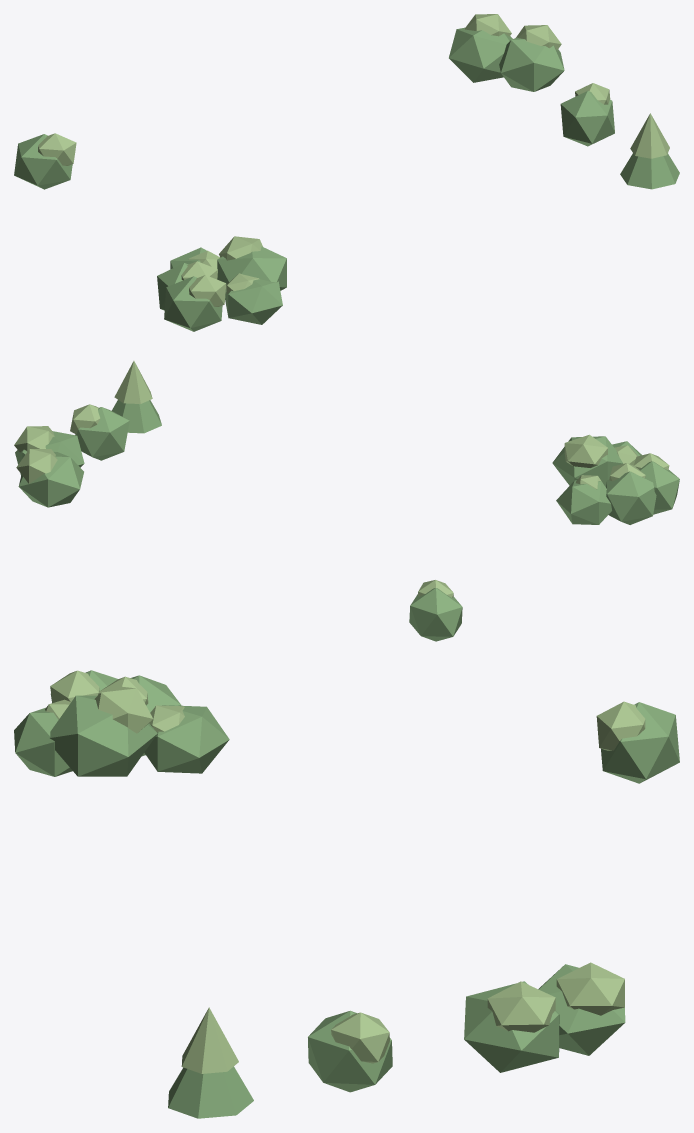
The model's file is stone_sentinels_wind_canopies.fbx.
3 renders of one model, top to bottom at view 1: azimuth 30°, elevation 25°; view 2: azimuth 150°, elevation 25°; view 3: azimuth 270°, elevation 25°, orthographic. The views are drawn at different scales.
Parts seen in each view (by area): view 1: chunk_stone_sentinels__tree_canopy_15, chunk_stone_sentinels__tree_canopy_13, chunk_stone_sentinels__tree_canopy_16, chunk_stone_sentinels__tree_canopy_01, chunk_stone_sentinels__tree_canopy_10, chunk_stone_sentinels__tree_canopy_06, chunk_stone_sentinels__tree_canopy_12, chunk_stone_sentinels__tree_canopy_19, chunk_stone_sentinels__tree_canopy_20, chunk_stone_sentinels__tree_canopy_09, chunk_stone_sentinels__tree_canopy_02, chunk_stone_sentinels__tree_canopy_14 (+3 smaller); view 2: chunk_stone_sentinels__tree_canopy_06, chunk_stone_sentinels__tree_canopy_13, chunk_stone_sentinels__tree_canopy_03, chunk_stone_sentinels__tree_canopy_16, chunk_stone_sentinels__tree_canopy_05, chunk_stone_sentinels__tree_canopy_12, chunk_stone_sentinels__tree_canopy_01, chunk_stone_sentinels__tree_canopy_11, chunk_stone_sentinels__tree_canopy_19, chunk_stone_sentinels__tree_canopy_20, chunk_stone_sentinels__tree_canopy_14, chunk_stone_sentinels__tree_canopy_15 (+2 smaller); view 3: chunk_stone_sentinels__tree_canopy_12, chunk_stone_sentinels__tree_canopy_15, chunk_stone_sentinels__tree_canopy_06, chunk_stone_sentinels__tree_canopy_05, chunk_stone_sentinels__tree_canopy_16, chunk_stone_sentinels__tree_canopy_19, chunk_stone_sentinels__tree_canopy_13, chunk_stone_sentinels__tree_canopy_14, chunk_stone_sentinels__tree_canopy_17, chunk_stone_sentinels__tree_canopy_10, chunk_stone_sentinels__tree_canopy_20, chunk_stone_sentinels__tree_canopy_18 (+5 smaller).
Boxes of the visible parts, x1=… form: chunk_stone_sentinels__tree_canopy_15: x1=499, y1=37, x2=564, y2=91; chunk_stone_sentinels__tree_canopy_13: x1=449, y1=27, x2=512, y2=82; chunk_stone_sentinels__tree_canopy_16: x1=560, y1=91, x2=614, y2=146; chunk_stone_sentinels__tree_canopy_01: x1=164, y1=276, x2=222, y2=331; chunk_stone_sentinels__tree_canopy_10: x1=225, y1=279, x2=282, y2=324; chunk_stone_sentinels__tree_canopy_06: x1=14, y1=134, x2=72, y2=189; chunk_stone_sentinels__tree_canopy_12: x1=217, y1=246, x2=286, y2=291; chunk_stone_sentinels__tree_canopy_19: x1=620, y1=153, x2=679, y2=189; chunk_stone_sentinels__tree_canopy_20: x1=630, y1=113, x2=669, y2=158; chunk_stone_sentinels__tree_canopy_09: x1=38, y1=133, x2=76, y2=165; chunk_stone_sentinels__tree_canopy_02: x1=189, y1=275, x2=226, y2=306; chunk_stone_sentinels__tree_canopy_14: x1=465, y1=14, x2=511, y2=36; chunk_stone_sentinels__tree_canopy_06: x1=409, y1=588, x2=462, y2=641; chunk_stone_sentinels__tree_canopy_13: x1=18, y1=452, x2=83, y2=507; chunk_stone_sentinels__tree_canopy_03: x1=606, y1=471, x2=656, y2=524; chunk_stone_sentinels__tree_canopy_16: x1=75, y1=407, x2=129, y2=460; chunk_stone_sentinels__tree_canopy_05: x1=556, y1=480, x2=611, y2=524; chunk_stone_sentinels__tree_canopy_12: x1=552, y1=436, x2=622, y2=486; chunk_stone_sentinels__tree_canopy_01: x1=639, y1=461, x2=679, y2=514; chunk_stone_sentinels__tree_canopy_11: x1=564, y1=434, x2=607, y2=467; chunk_stone_sentinels__tree_canopy_19: x1=111, y1=400, x2=161, y2=433; chunk_stone_sentinels__tree_canopy_20: x1=114, y1=361, x2=152, y2=403; chunk_stone_sentinels__tree_canopy_14: x1=16, y1=449, x2=57, y2=483; chunk_stone_sentinels__tree_canopy_15: x1=15, y1=431, x2=84, y2=475; chunk_stone_sentinels__tree_canopy_12: x1=50, y1=695, x2=157, y2=776; chunk_stone_sentinels__tree_canopy_15: x1=464, y1=981, x2=559, y2=1072; chunk_stone_sentinels__tree_canopy_06: x1=601, y1=702, x2=679, y2=783; chunk_stone_sentinels__tree_canopy_05: x1=144, y1=705, x2=229, y2=773; chunk_stone_sentinels__tree_canopy_16: x1=308, y1=1010, x2=392, y2=1092; chunk_stone_sentinels__tree_canopy_19: x1=168, y1=1066, x2=253, y2=1118; chunk_stone_sentinels__tree_canopy_13: x1=538, y1=964, x2=625, y2=1055; chunk_stone_sentinels__tree_canopy_14: x1=556, y1=962, x2=624, y2=1015; chunk_stone_sentinels__tree_canopy_17: x1=487, y1=981, x2=555, y2=1032; chunk_stone_sentinels__tree_canopy_10: x1=14, y1=707, x2=72, y2=776; chunk_stone_sentinels__tree_canopy_20: x1=181, y1=1007, x2=238, y2=1073; chunk_stone_sentinels__tree_canopy_18: x1=331, y1=1012, x2=389, y2=1063.
Size of the model in its own units: 185 by 26.14 by 133.
